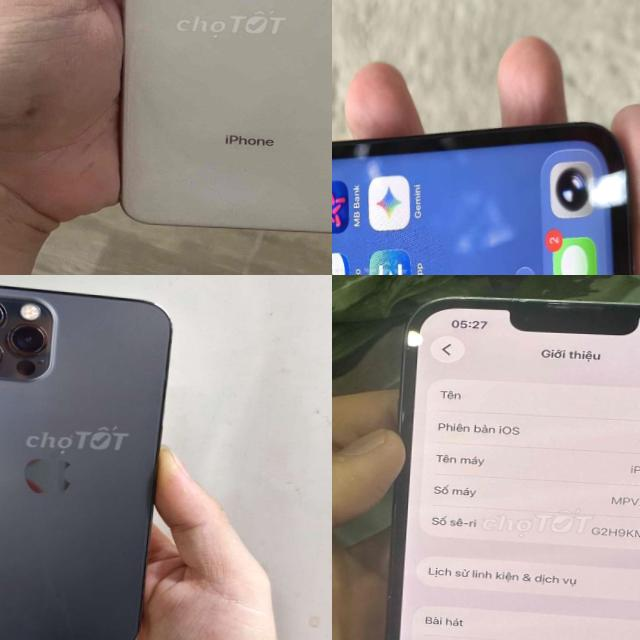gen_12_13: (0, 275, 191, 640), (332, 100, 640, 275)
gen_14: (377, 285, 640, 640)
gen_7_8: (99, 0, 332, 239)
